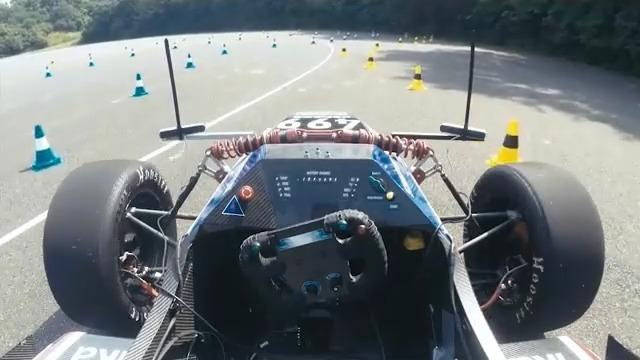blue_cone: (19, 121, 65, 170), (129, 72, 153, 97), (216, 39, 233, 59), (185, 51, 198, 72), (269, 35, 278, 50)
yellow_cone: (489, 113, 532, 170), (409, 63, 432, 97), (339, 45, 349, 58), (308, 35, 317, 44), (368, 57, 378, 65)
